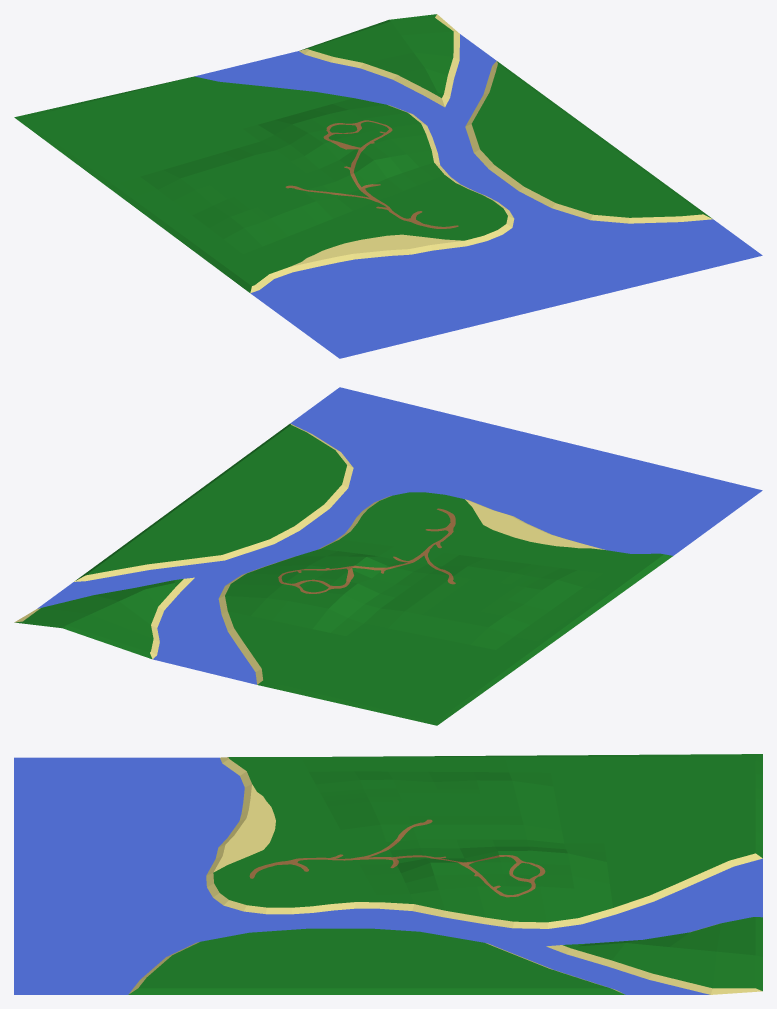
Rendered from Low polly base start.fbx.
3 renders of one model, top to bottom at view 1: azimuth 30°, elevation 25°; view 2: azimuth 150°, elevation 25°; view 3: azimuth 270°, elevation 25°, orthographic. The views are drawn at different scales.
Visible parts, largest first — view 1: village layout; view 2: village layout; view 3: village layout.
Boxes of the visible parts, left/top/right/bottom form: village layout: left=14, top=14, right=762, bottom=358; village layout: left=14, top=387, right=762, bottom=725; village layout: left=14, top=754, right=762, bottom=994.
Size of the model in its own units: 75 by 2.3 by 100.
